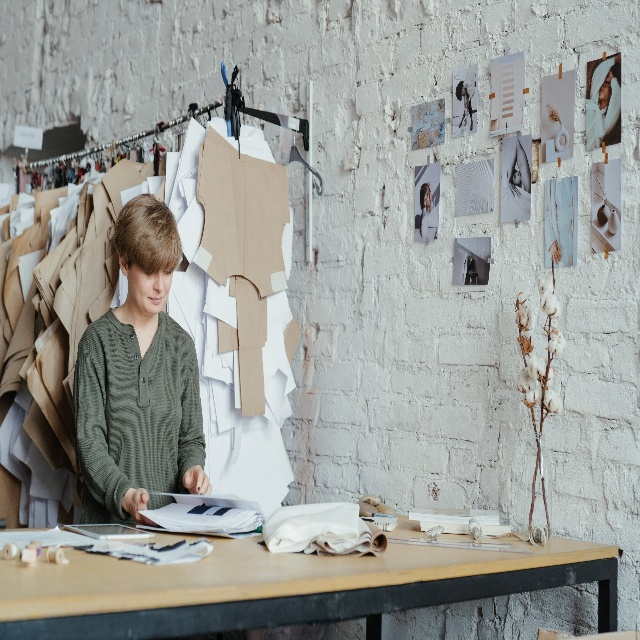Sin_guantes: (129, 486, 157, 526), (182, 464, 213, 496), (546, 235, 564, 266), (506, 177, 525, 204)
